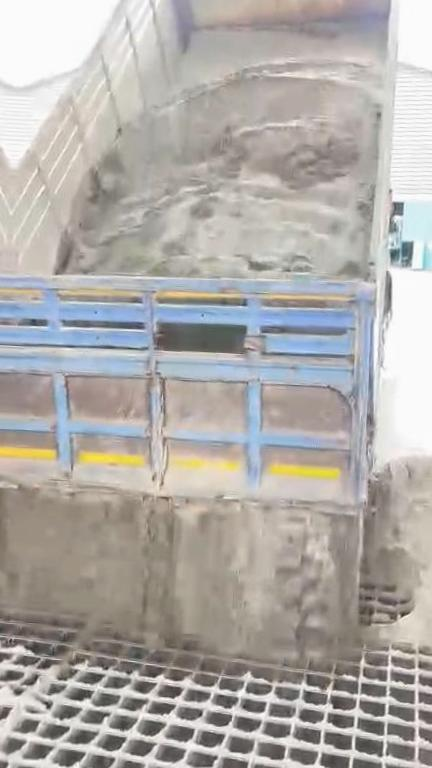sand: (0, 453, 432, 663), (58, 64, 378, 276)
